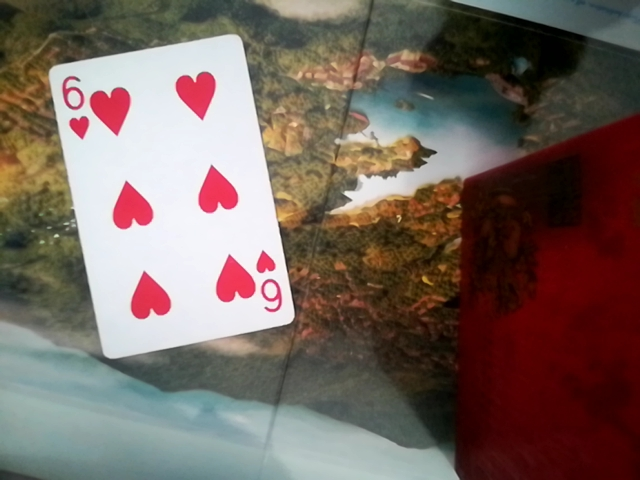hx 6: (47, 25, 299, 361)
